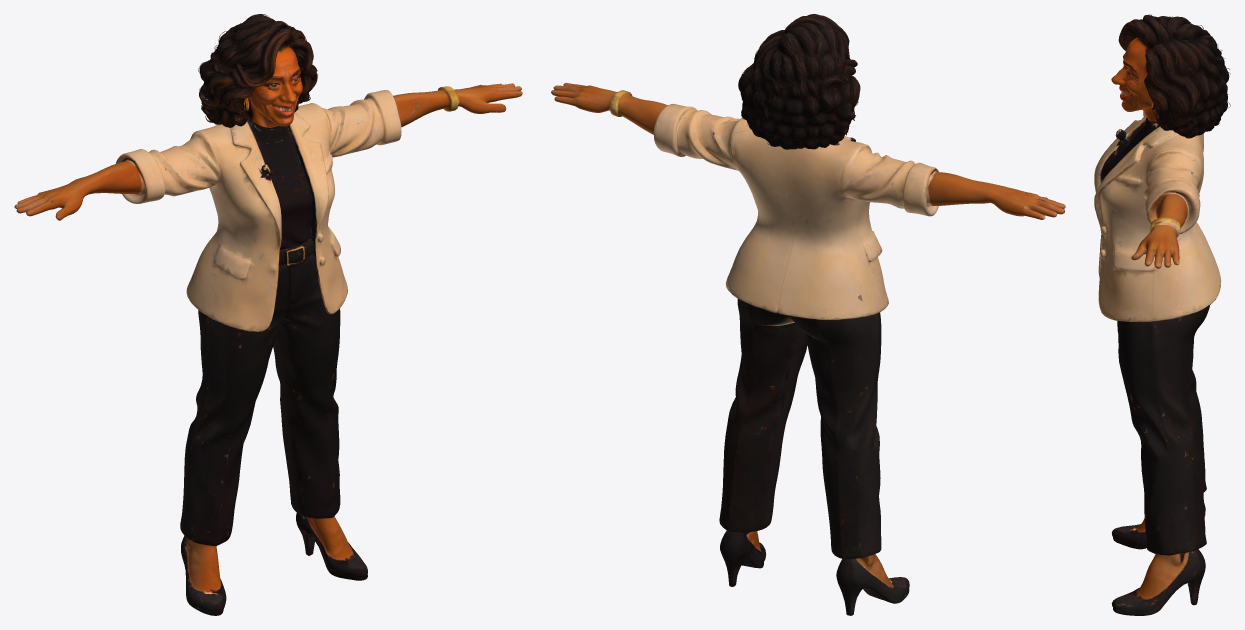
The model's file is gloria.glb.
3 views of the same model, side by side, from view 1: azimuth 30°, elevation 25°; view 2: azimuth 150°, elevation 25°; view 3: azimuth 270°, elevation 25° (orthographic).
Parts seen in each view (by area): view 1: Corpo Glória Maria, Cabeça Glória Maria; view 2: Corpo Glória Maria, Cabeça Glória Maria; view 3: Corpo Glória Maria, Cabeça Glória Maria.
Boxes of the visible parts, box(x1,y1,x2,y2) form: Corpo Glória Maria: box(14, 83, 522, 615); Cabeça Glória Maria: box(198, 14, 317, 127); Corpo Glória Maria: box(551, 82, 1065, 615); Cabeça Glória Maria: box(738, 14, 860, 149); Corpo Glória Maria: box(1094, 111, 1221, 615); Cabeça Glória Maria: box(1111, 14, 1230, 138).
Size of the model in its own units: 1.99 by 2.12 by 0.4683.
Materials: 2 (2 with a texture image).
